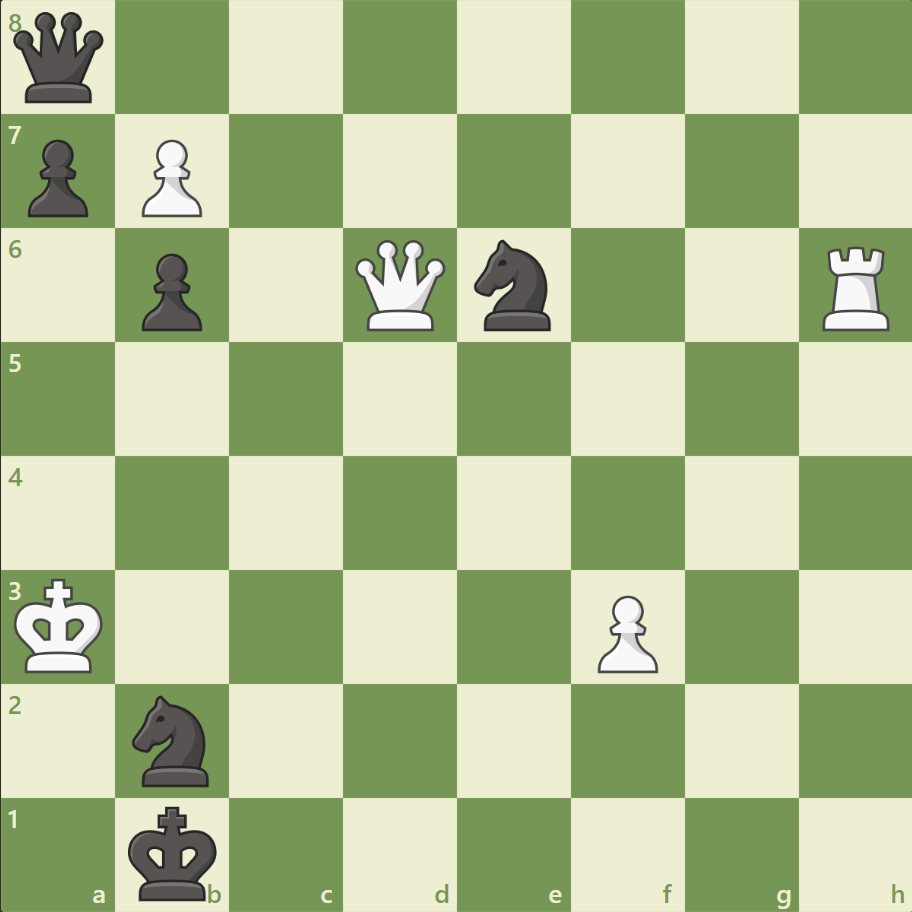K: (11, 571, 111, 679)
P: (133, 132, 208, 223), (588, 586, 662, 677)
Q: (351, 236, 450, 335)
R: (814, 239, 897, 336)
k: (124, 798, 224, 906)
n: (124, 688, 222, 791), (465, 234, 562, 337)
p: (20, 132, 95, 223), (133, 246, 208, 337)
q: (10, 9, 109, 108)
